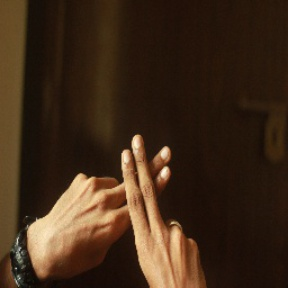F: (95, 129, 185, 255)
